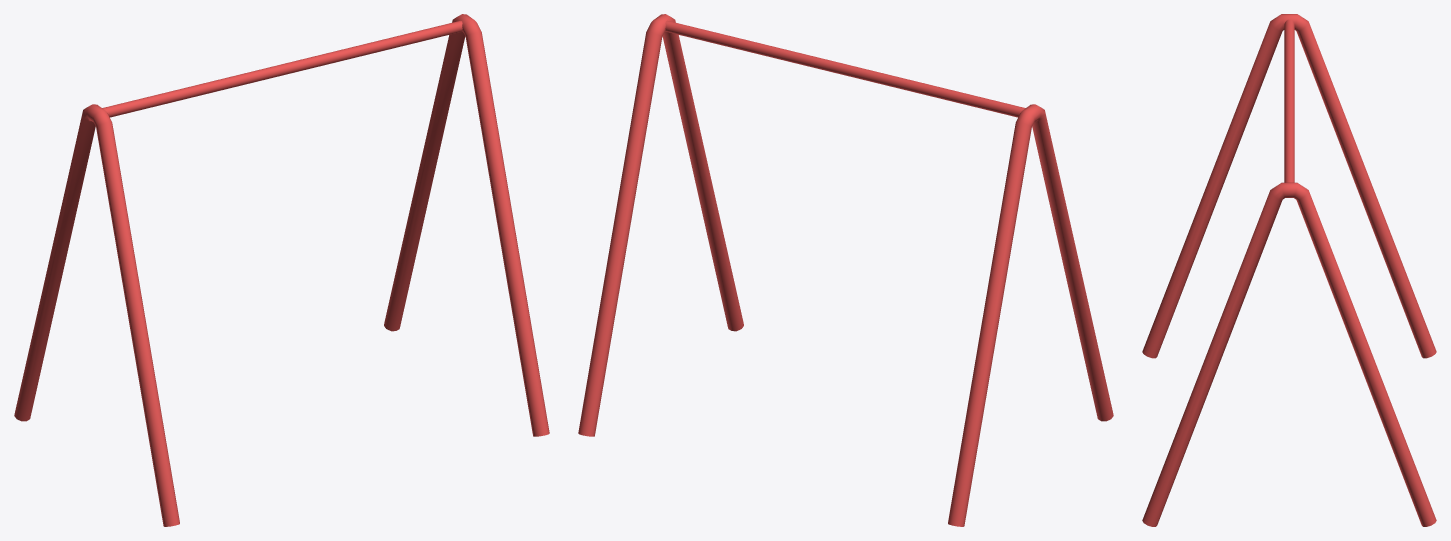
File: Swing.fbx
3 renders of one model, left to right at view 1: azimuth 30°, elevation 25°; view 2: azimuth 150°, elevation 25°; view 3: azimuth 270°, elevation 25°, orthographic. The views are drawn at different scales.
Visible parts, largest first — view 1: Swing; view 2: Swing; view 3: Swing.
Part boxes in pixels (x1=…): Swing: x1=14, y1=14, x2=549, y2=526; Swing: x1=578, y1=14, x2=1113, y2=526; Swing: x1=1142, y1=14, x2=1436, y2=526.
Size of the model in its own units: 2076 by 1891 by 1476.
